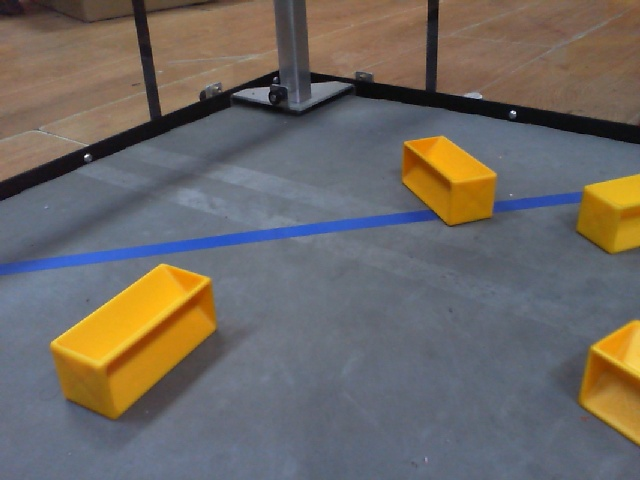YellowSample: (43, 257, 224, 422), (399, 133, 501, 230), (576, 309, 640, 448), (572, 157, 640, 255)
